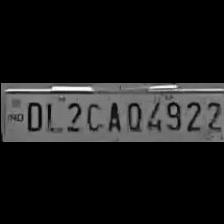2: (62, 97, 82, 133), (182, 96, 202, 132), (202, 96, 222, 130)
4: (144, 96, 162, 132)
9: (163, 96, 181, 132)
A: (102, 96, 120, 132)
C: (84, 98, 103, 132)
D: (22, 98, 42, 132)
L: (42, 97, 60, 133)
Q: (122, 96, 142, 132)
